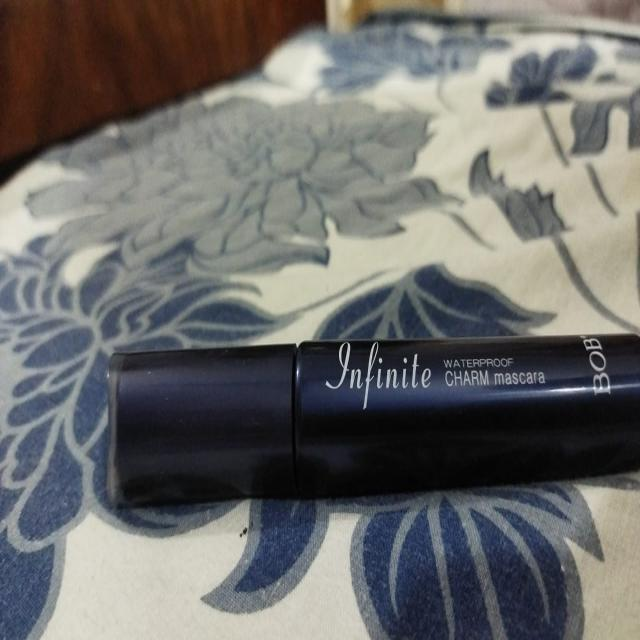nail polish: (96, 319, 640, 536)
